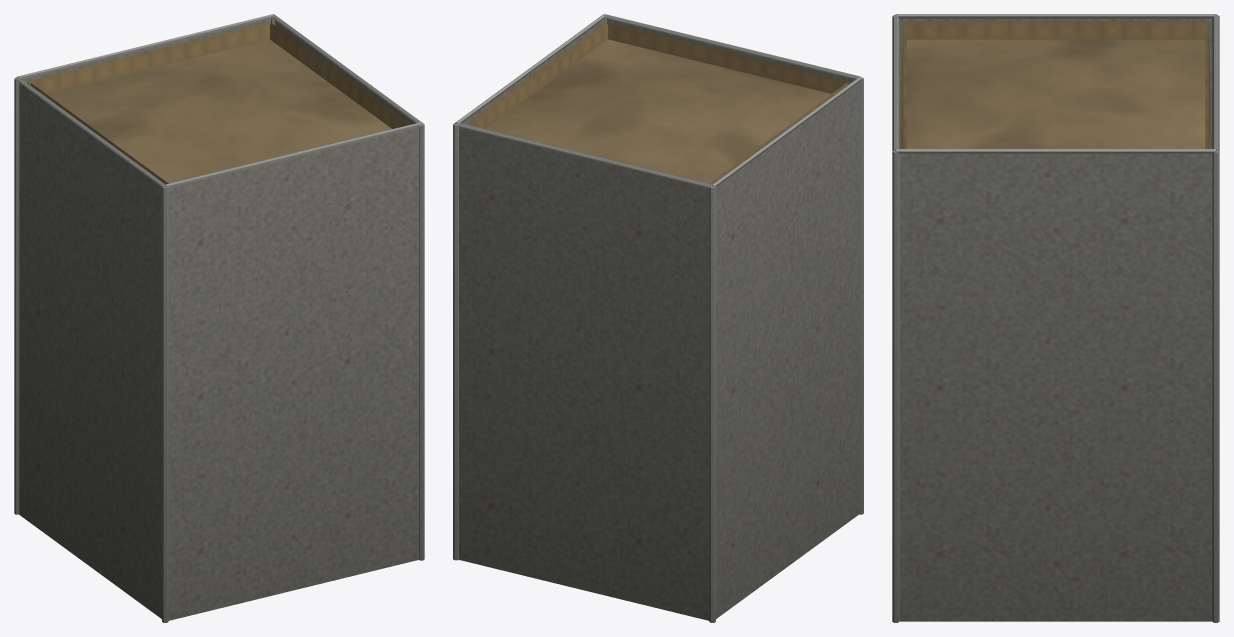
Rendered from hesco.glb.
3 renders of one model, left to right at view 1: azimuth 30°, elevation 25°; view 2: azimuth 150°, elevation 25°; view 3: azimuth 270°, elevation 25°, orthographic. The views are drawn at different scales.
Parts seen in each view (by area): view 1: hesco; view 2: hesco; view 3: hesco.
Part boxes in pixels (x1=…): hesco: x1=14, y1=14, x2=424, y2=622; hesco: x1=453, y1=14, x2=863, y2=622; hesco: x1=892, y1=14, x2=1219, y2=622.
Bounding box in the file's own units: 1.08 × 1.73 × 1.08.
4 materials, 3 textured.
